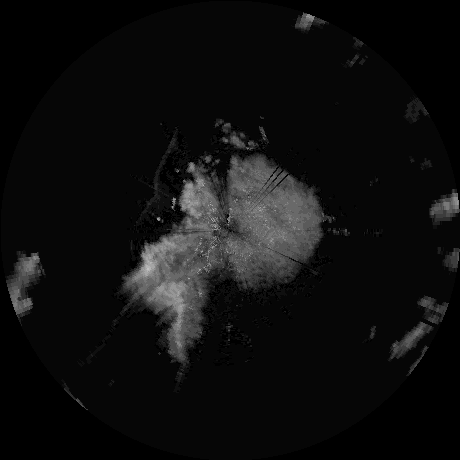frontgust: (137, 134, 179, 222)
